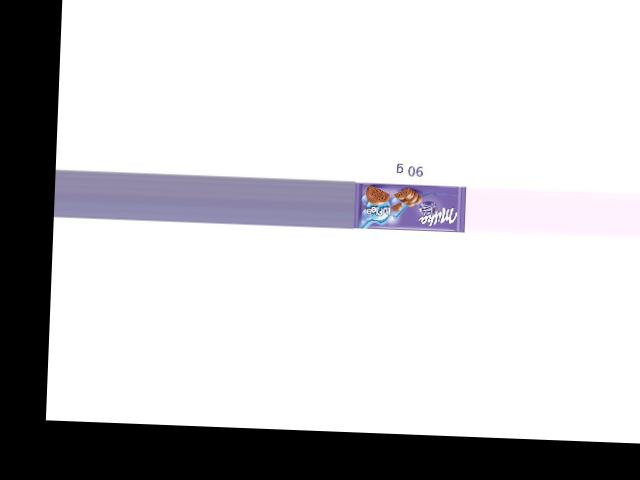chocolate: (352, 182, 464, 232)
